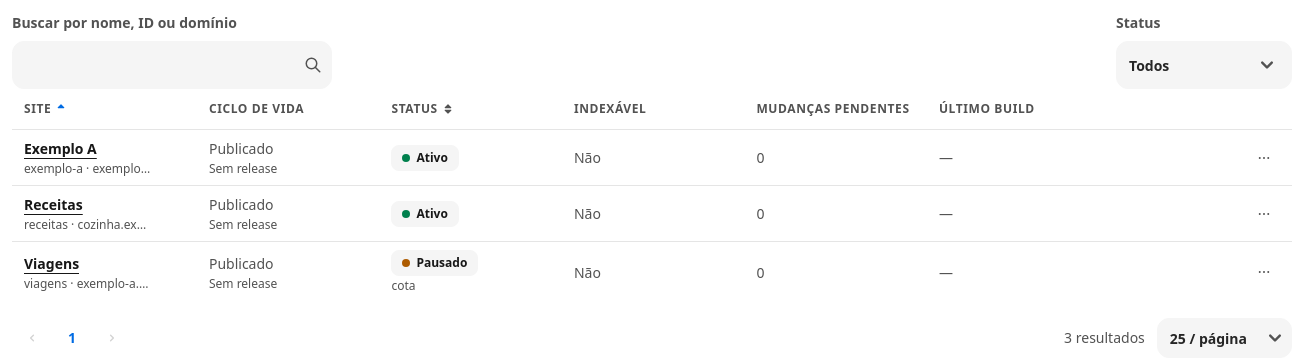
Test: busca, filtro e paginação da lista de sites (#364) › busca sem resultado mostra o "nenhum encontrado", não o estado vazio
The width and height of the screenshot is (1304, 364).
In the search field labelled "Buscar por nome, ID ou domínio": (172, 65) [12, 41, 332, 89], type "zzz"
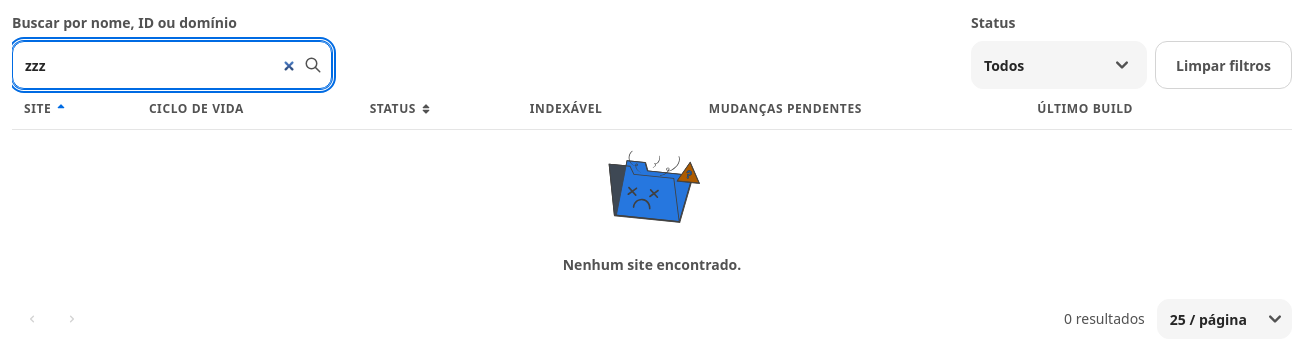
Expected: the text "Nenhum site encontrado." is shown, [563, 254, 741, 275]
